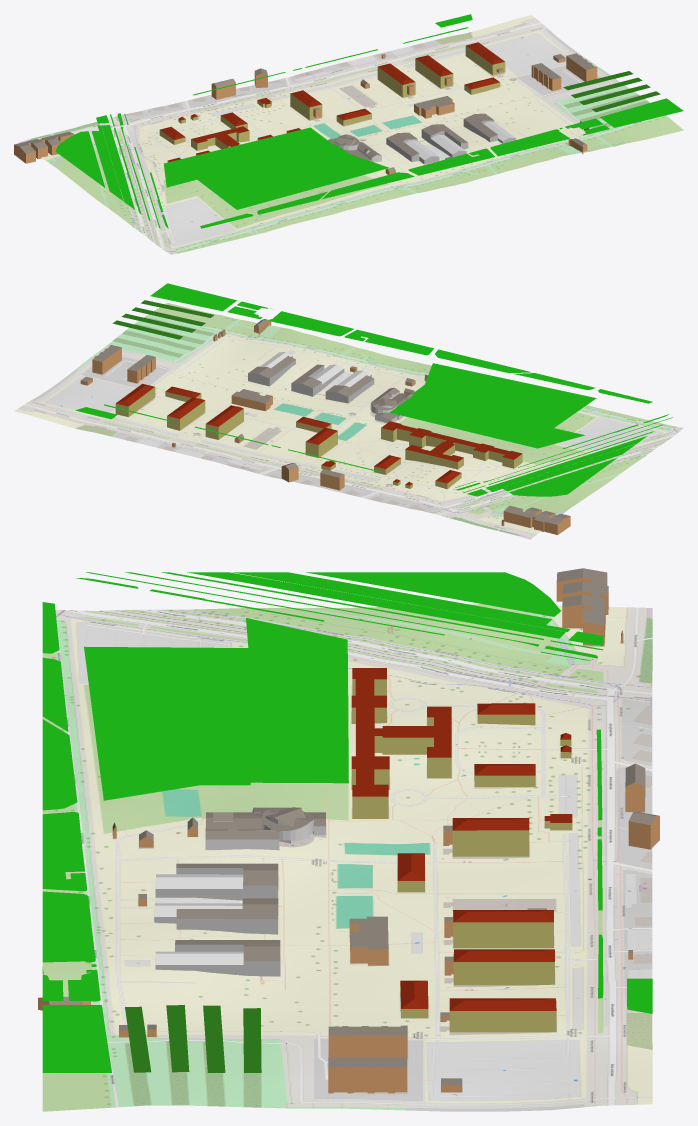
File: hs_mapnik.gltf
The picture shows the model from 3 angles, top to bottom: view 1: azimuth 30°, elevation 25°; view 2: azimuth 150°, elevation 25°; view 3: azimuth 270°, elevation 25°; orthographic projection. The views are drawn at different scales.
Visible parts, largest first — view 1: Terrain, element.132, element.171, element.135, Haus 1, element.133, Haus 17, element.013, Haus 16, Haus 18, Haus 7, element.015 (+14 smaller); view 2: Terrain, element.132, Haus 1, element.171, element.013, element.135, element.133, Haus 17, Haus 16, Haus 18, Haus 15, element.180 (+12 smaller); view 3: Terrain, element.132, Haus 1, element.171, element.135, Haus 15, Haus 16, Haus 7, Haus 18, element.133, Haus 8, Haus 10 (+24 smaller).
Part boxes in pixels (box(x1,y1,x2,y2)): Terrain: box(18, 15, 683, 254); element.132: box(163, 127, 389, 209); element.171: box(55, 131, 105, 187); element.135: box(600, 98, 683, 127); Haus 1: box(167, 126, 300, 162); element.133: box(490, 125, 609, 156); Haus 17: box(421, 124, 468, 157); element.013: box(14, 132, 74, 163); Haus 16: box(386, 132, 439, 164); Haus 18: box(463, 113, 516, 143); Haus 7: box(377, 63, 415, 97); element.015: box(408, 148, 494, 175); Terrain: box(14, 303, 683, 539); element.132: box(390, 363, 596, 448); Haus 1: box(381, 421, 522, 469); element.171: box(509, 458, 616, 496); element.013: box(503, 505, 570, 534); element.135: box(150, 283, 236, 311); element.133: box(237, 301, 353, 336); Haus 17: box(291, 364, 344, 396); Haus 16: box(325, 370, 374, 403); Haus 18: box(248, 351, 295, 386); Haus 15: box(370, 387, 413, 422); element.180: box(490, 444, 635, 491); Terrain: box(42, 604, 652, 1111); element.132: box(84, 618, 348, 800); Haus 1: box(351, 668, 451, 818); element.171: box(306, 572, 560, 616); element.135: box(42, 1005, 111, 1072); Haus 15: box(205, 807, 325, 850); Haus 16: box(155, 863, 278, 900); Haus 7: box(444, 910, 553, 948); Haus 18: box(155, 940, 280, 976); element.133: box(42, 891, 95, 1000); Haus 8: box(444, 949, 554, 985); Haus 10: box(440, 998, 556, 1032).
Size of the model in its own units: 744 by 27.1 by 378.
9 materials, 1 textured.
